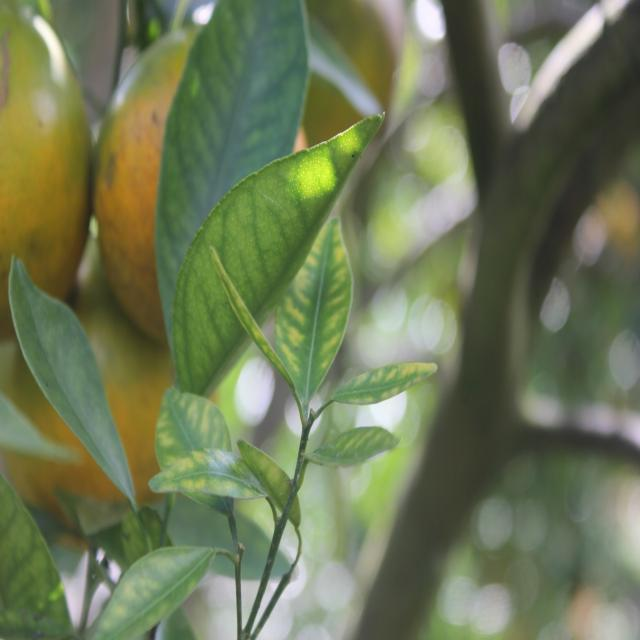greening: (280, 230, 355, 395), (158, 444, 265, 508), (348, 357, 436, 413), (306, 427, 401, 476)
